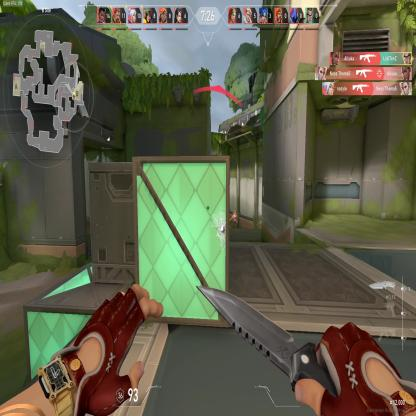enemy: (232, 208, 238, 228)
